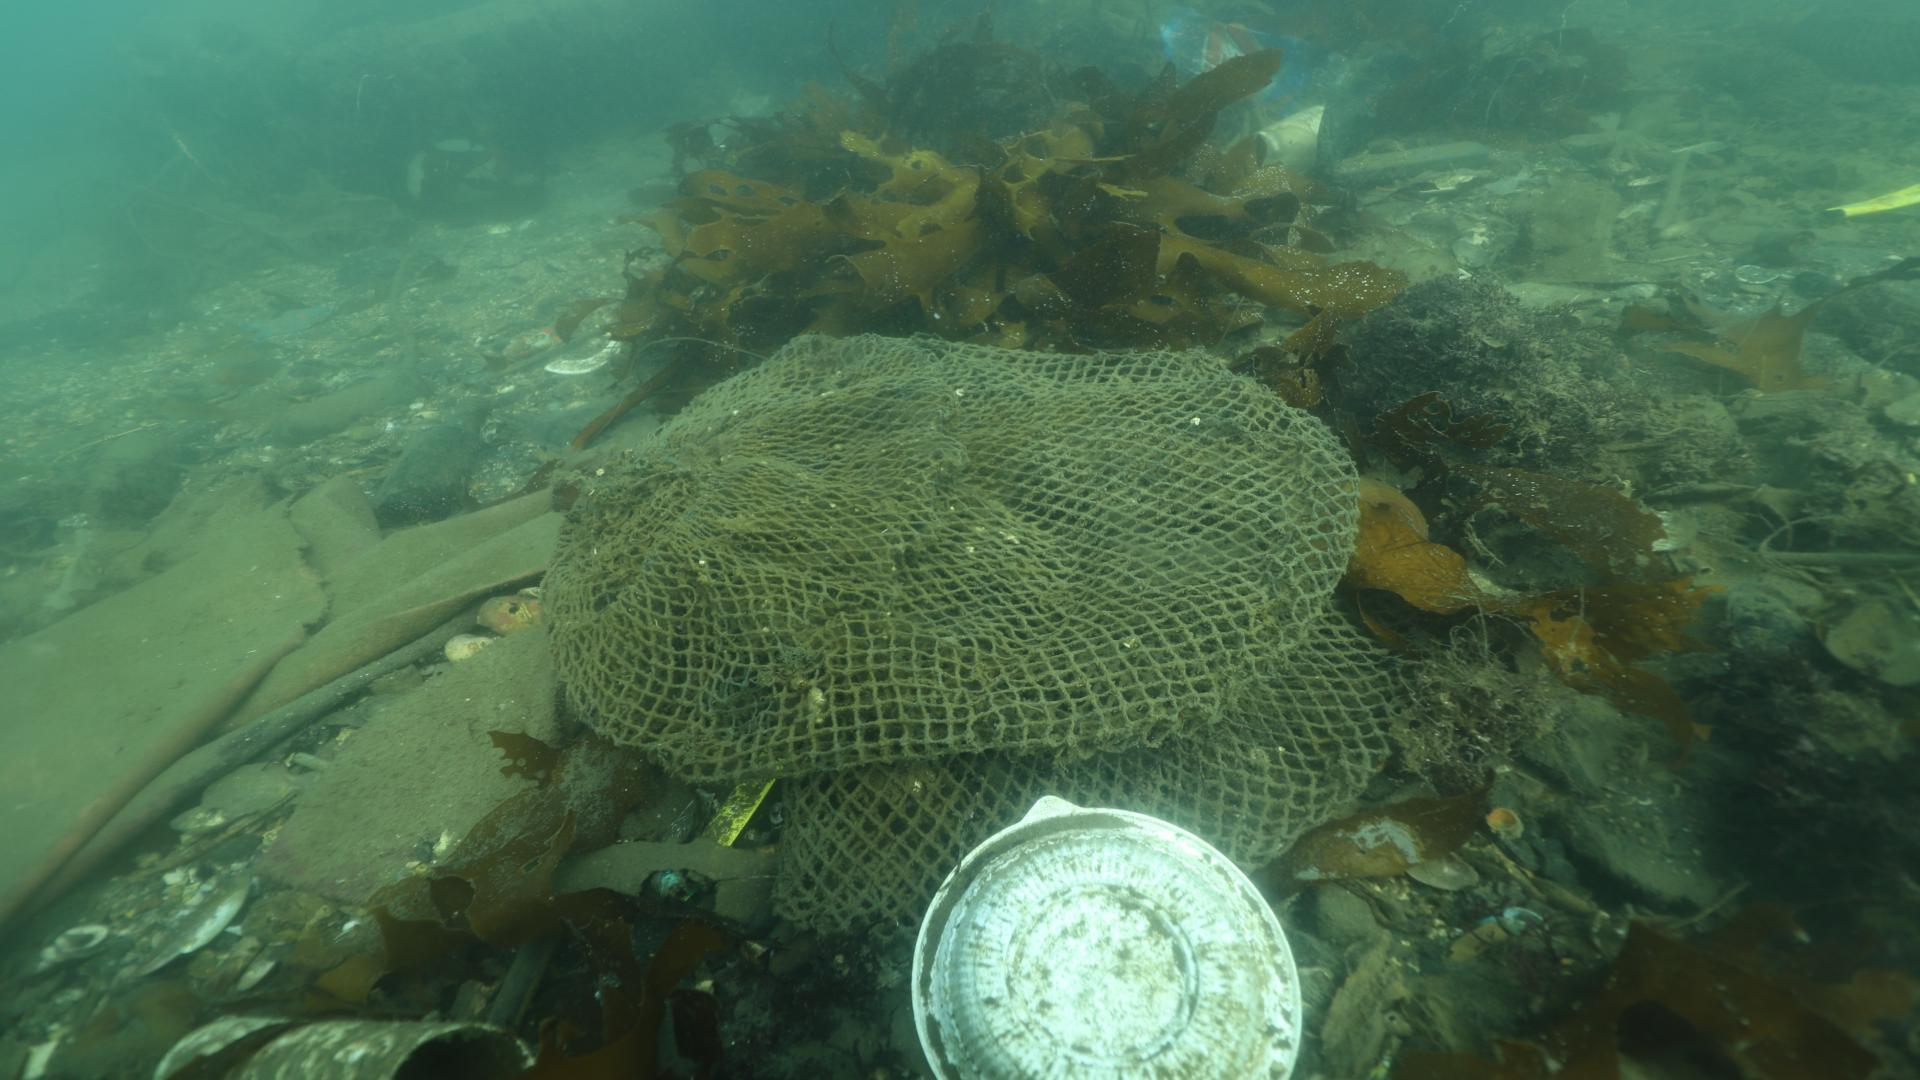fish net: (535, 334, 1402, 928)
